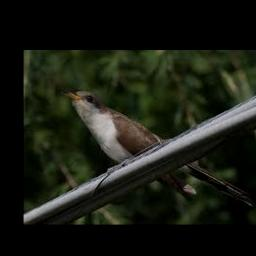Cuckoo: (62, 91, 256, 206)
